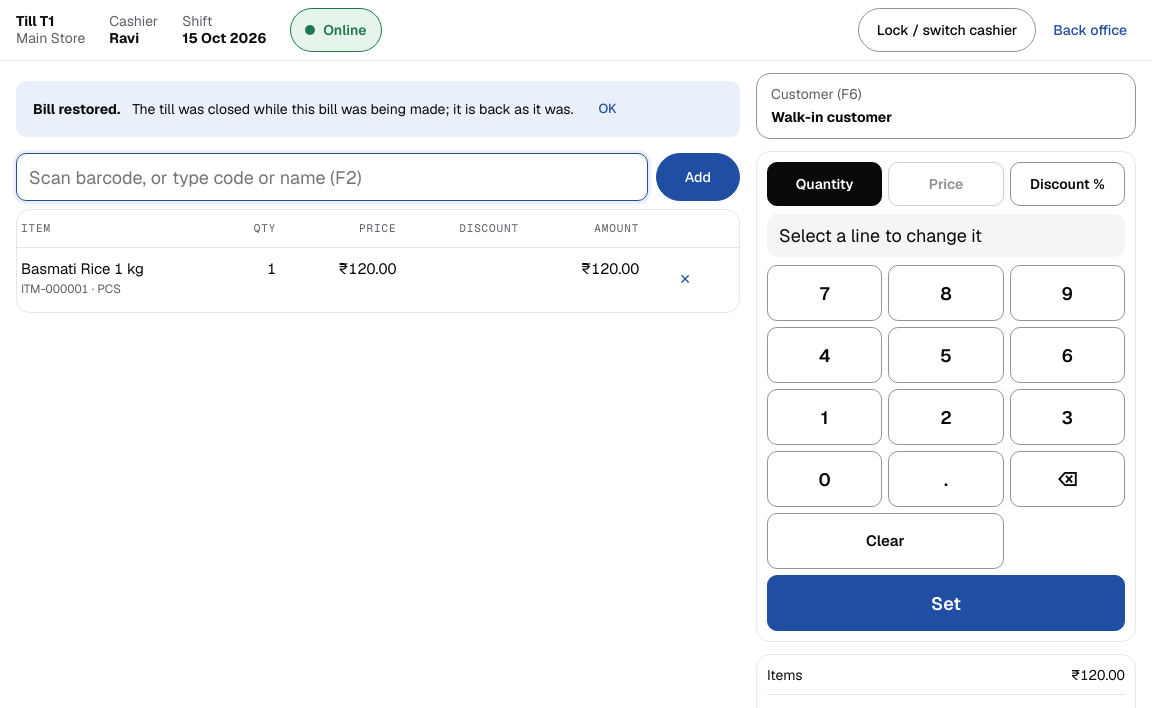
it: selling below cost (plan 11 A2, scenario 11.2) › not approved: the cashier is told a manager must approve the price, and the bill stays open
Expected: the form is shown, [16,153,740,201]
Step 1. Press F4
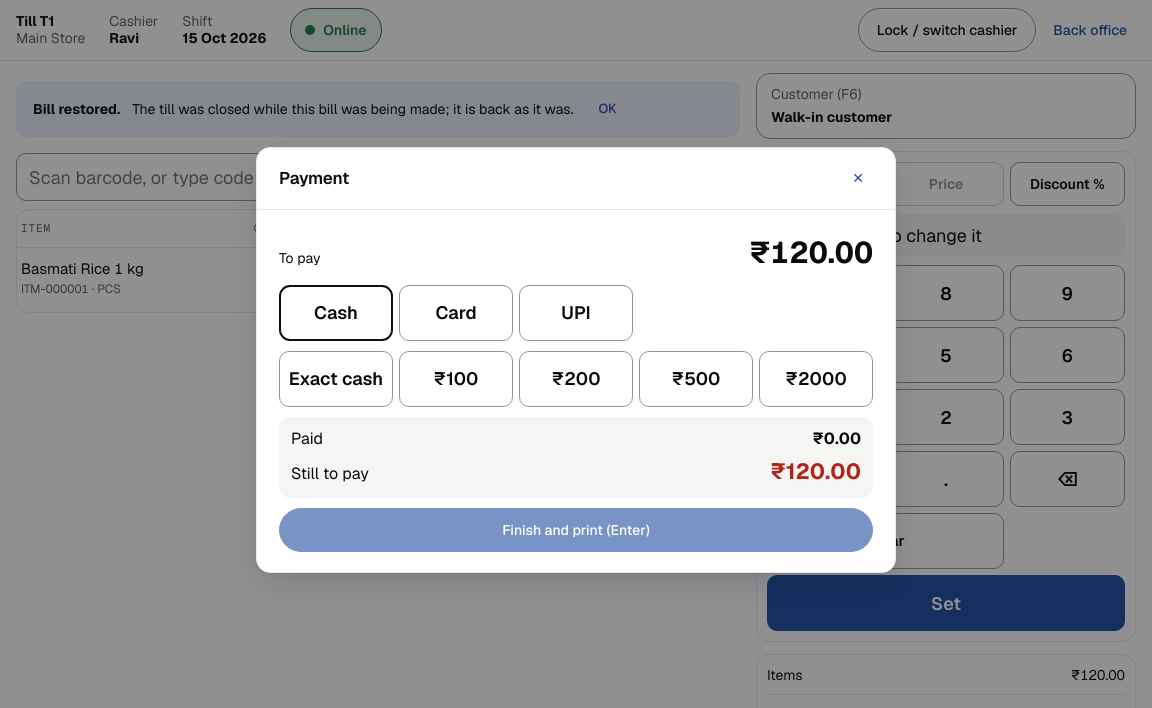
Step 2. Click the button "Exact cash" → (336, 379), box [279,351,393,407]
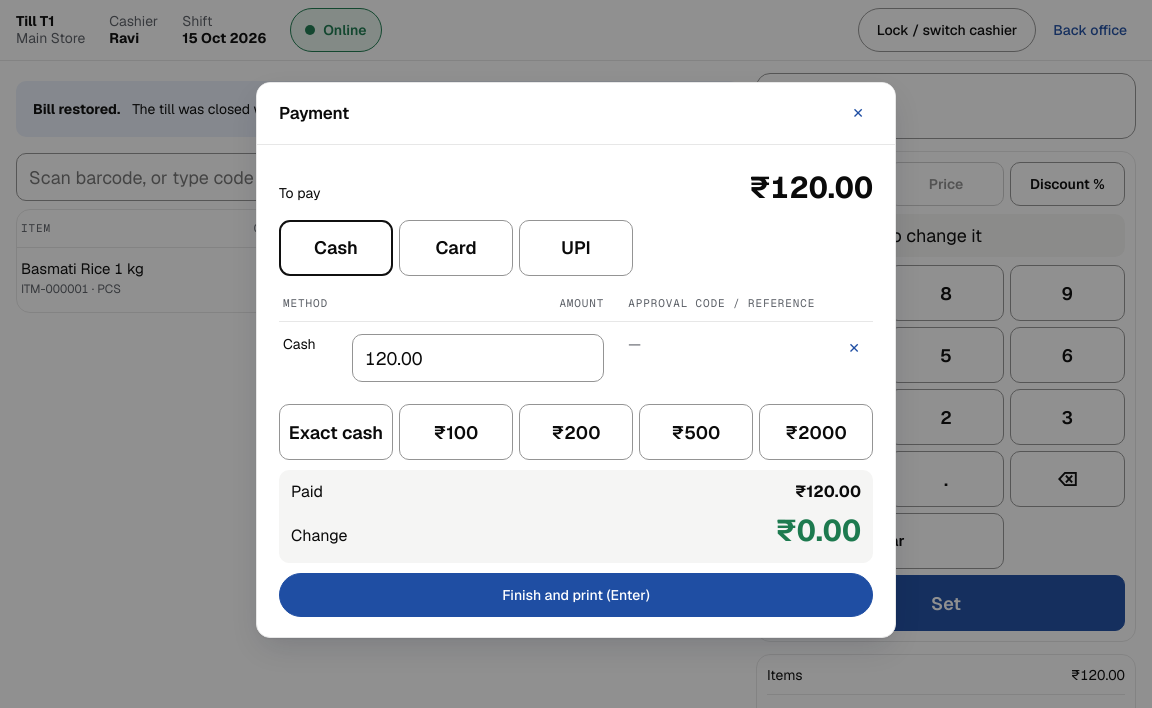
Step 3. Click the button "Finish and print (Enter)" → (576, 595), box [279,573,873,617]
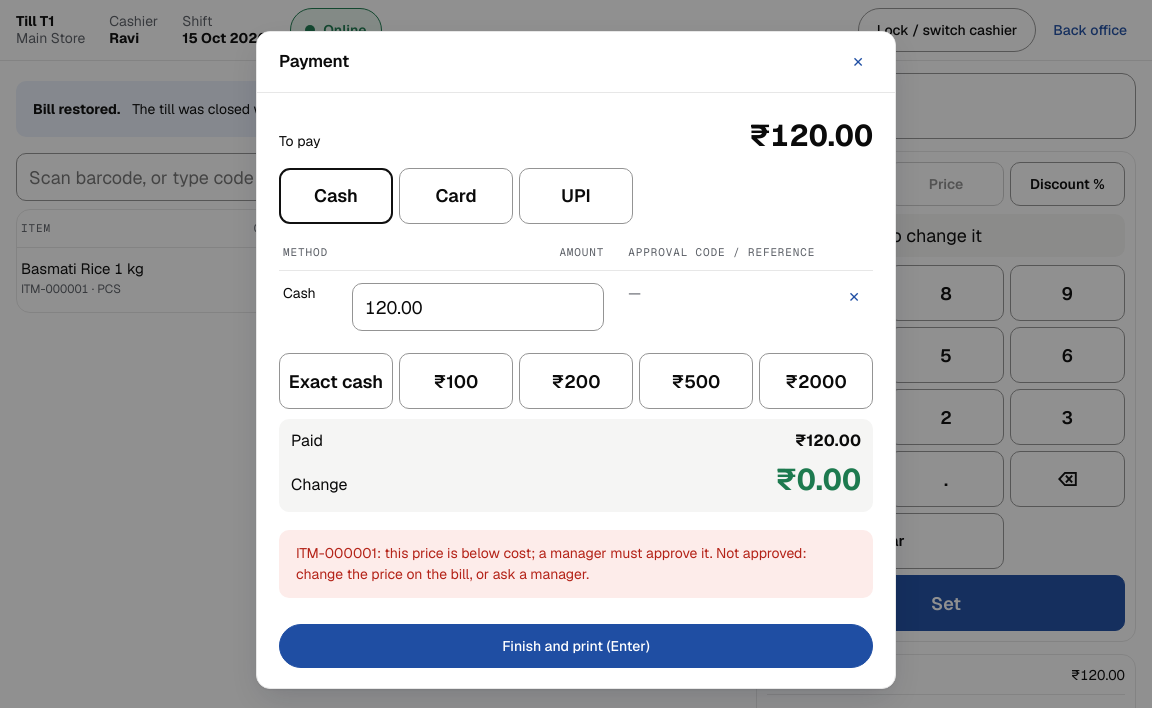
Now the text "below cost; a manager must approve it. Not approved: change the price on the bill, or ask a manager" is shown, box [296,544,807,583]
